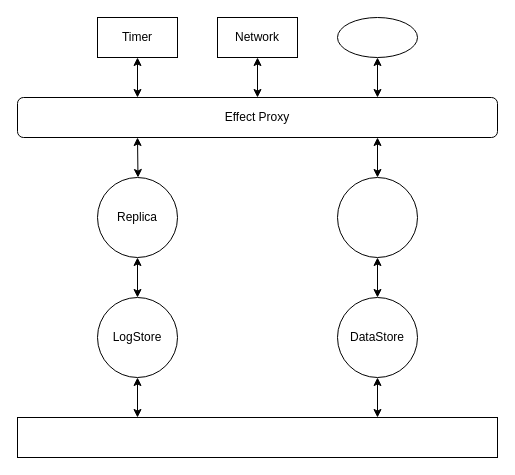
The diagram is 515 pixels wide and 475 high, and some of its shapes have lost their labels. Here are the shapes that lost their labels. From the top down, the centre of each, then its label:
At point 377,37: "Client".
At point 377,217: "Executor".
At point 257,437: "Persistent Storage".
